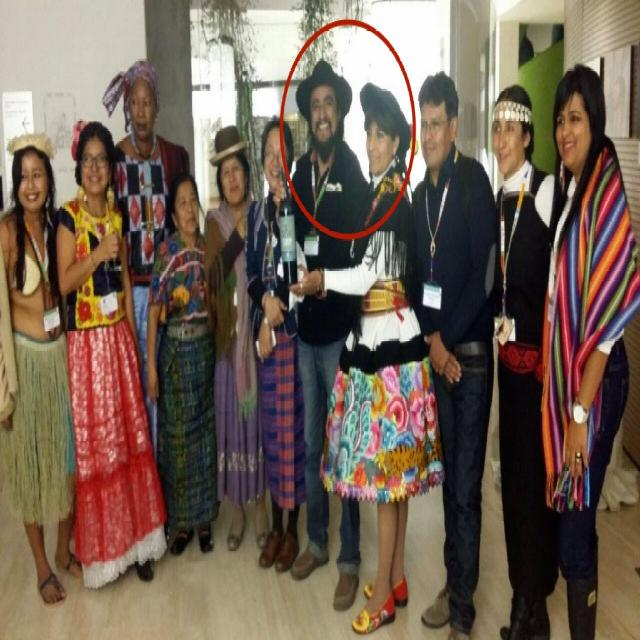body: (285, 82, 446, 639), (540, 60, 640, 639), (404, 71, 501, 639), (274, 58, 372, 608), (54, 120, 166, 584), (0, 131, 88, 610), (489, 83, 560, 640), (146, 170, 230, 558), (114, 58, 192, 462), (202, 122, 272, 554), (246, 116, 308, 576), (512, 21, 564, 68)
